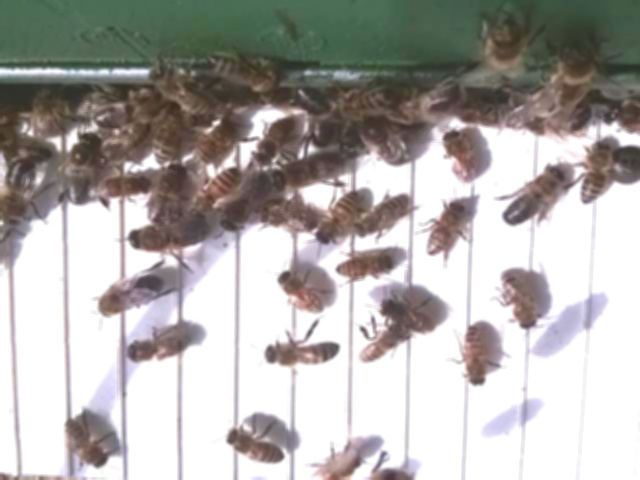Drone: (500, 164, 566, 231), (270, 148, 349, 197), (122, 216, 212, 257), (59, 130, 105, 210), (93, 272, 166, 321), (0, 157, 42, 232)
Worker: (350, 194, 411, 241), (262, 336, 342, 371), (220, 425, 285, 468), (124, 327, 193, 367), (272, 269, 327, 318), (314, 190, 358, 250), (497, 267, 537, 332), (190, 165, 242, 215), (61, 417, 109, 471), (424, 200, 467, 260), (576, 137, 610, 209), (374, 294, 438, 332), (257, 202, 320, 239), (333, 251, 397, 285), (440, 127, 478, 184), (354, 328, 407, 367), (460, 323, 490, 391)
